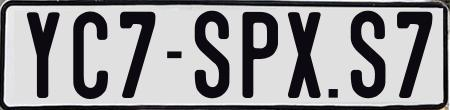7: (397, 12, 434, 100), (118, 11, 155, 97)
C: (71, 10, 106, 98)
P: (240, 9, 281, 97)
S: (194, 8, 232, 100), (350, 11, 388, 100)
X: (285, 9, 318, 97)
Y: (24, 9, 61, 98)
